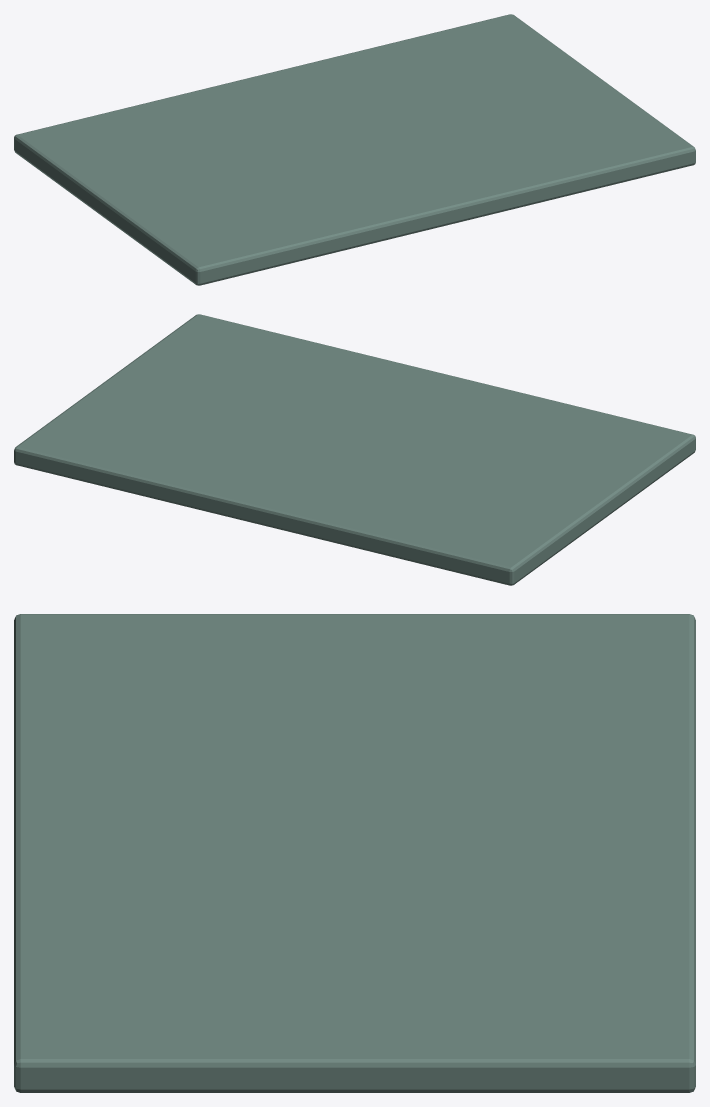
Rendered from Deck_S_Frag_truss_lab2.glb.
The picture shows the model from 3 angles, top to bottom: view 1: azimuth 30°, elevation 25°; view 2: azimuth 150°, elevation 25°; view 3: azimuth 270°, elevation 25°; orthographic projection. The views are drawn at different scales.
Visible parts, largest first — view 1: Deck_S_Frag_truss; view 2: Deck_S_Frag_truss; view 3: Deck_S_Frag_truss.
Boxes of the visible parts, x1=… form: Deck_S_Frag_truss: x1=14, y1=14, x2=695, y2=285; Deck_S_Frag_truss: x1=14, y1=314, x2=695, y2=585; Deck_S_Frag_truss: x1=14, y1=614, x2=695, y2=1092.
Size of the model in its own units: 4 by 0.14 by 2.56.
